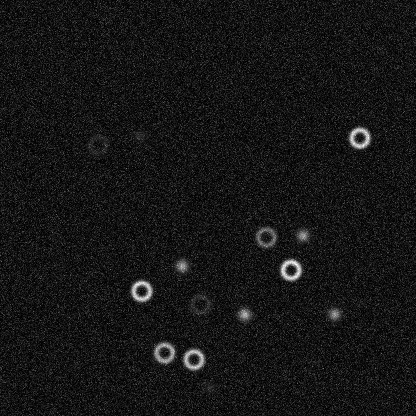Ring: (85, 132, 109, 156), (188, 291, 212, 315), (278, 257, 302, 281), (347, 125, 371, 149), (152, 340, 176, 364), (129, 278, 153, 302), (181, 347, 205, 371), (253, 225, 277, 249)
Spot: (294, 227, 310, 243), (201, 379, 217, 395), (326, 305, 342, 321), (236, 306, 252, 322), (131, 128, 147, 144), (173, 257, 189, 273)
